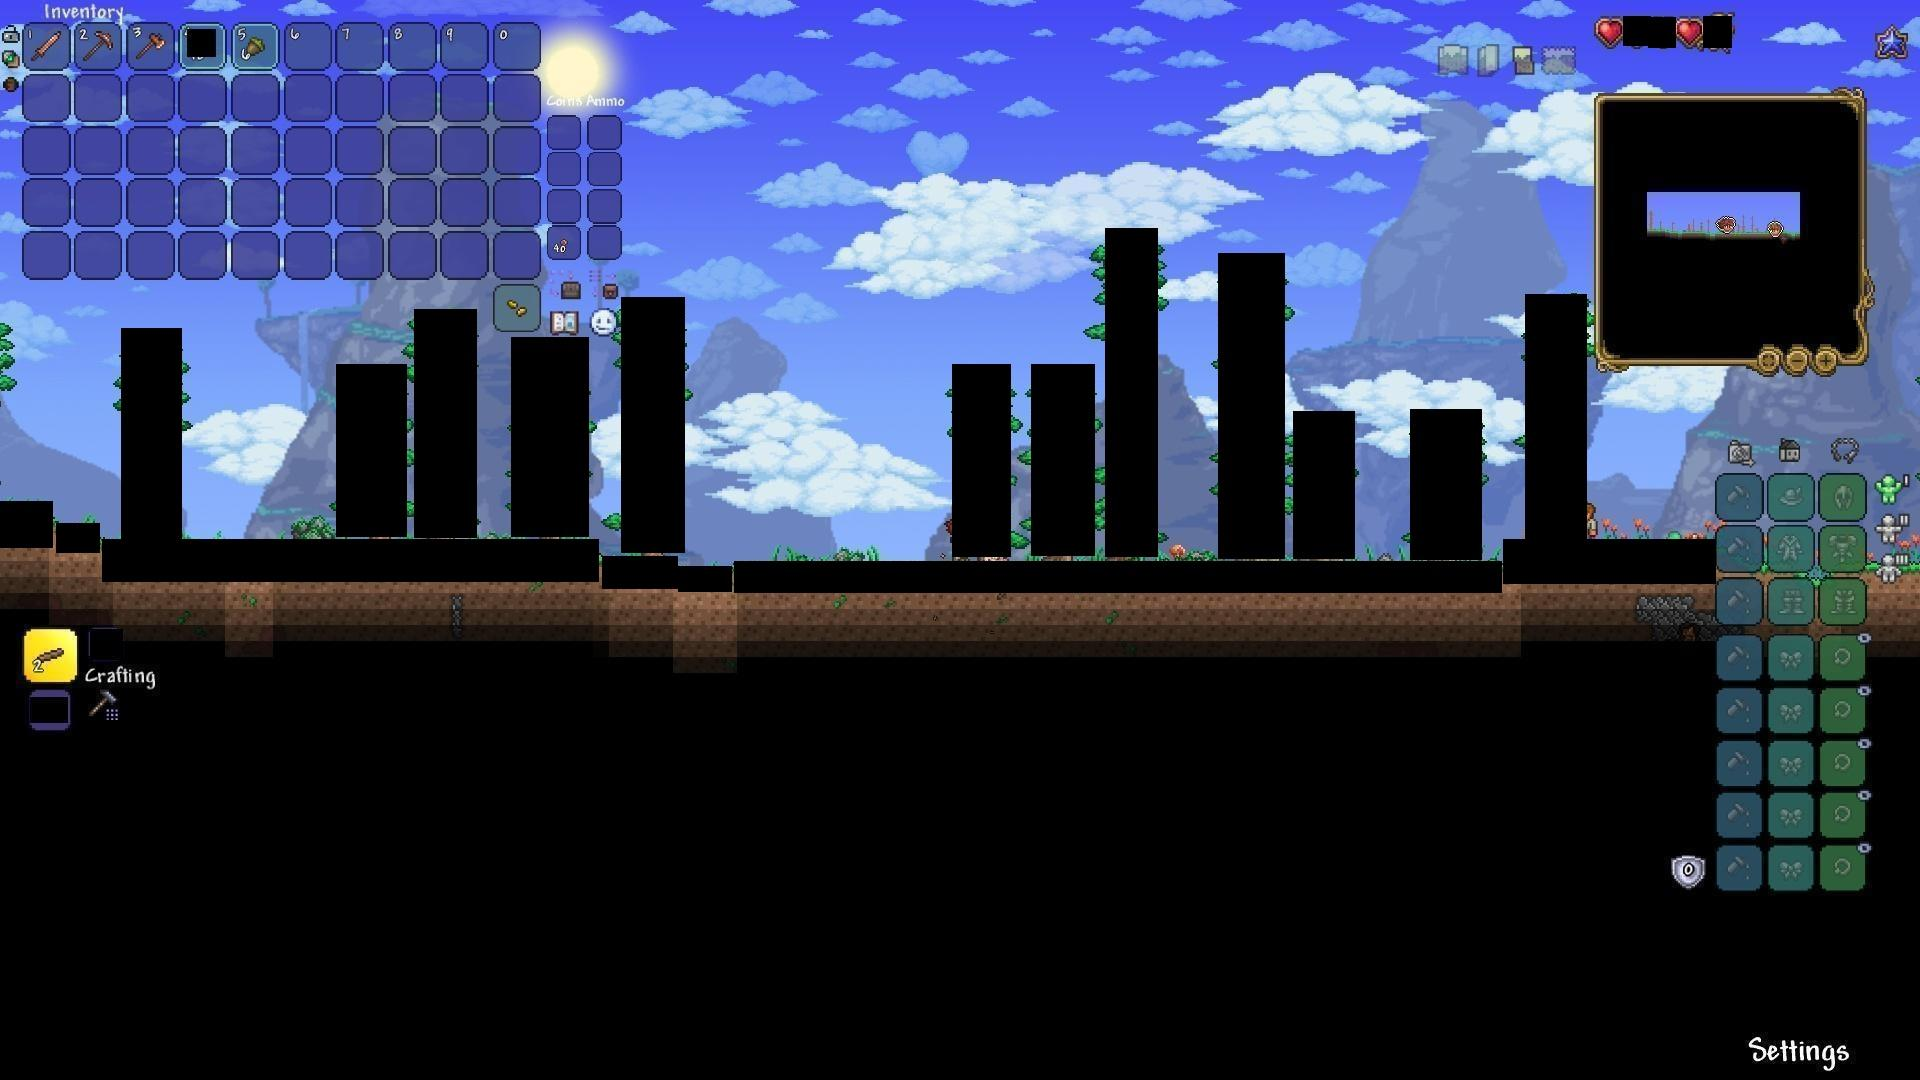heart: (1597, 16, 1626, 45), (1676, 17, 1704, 47)
